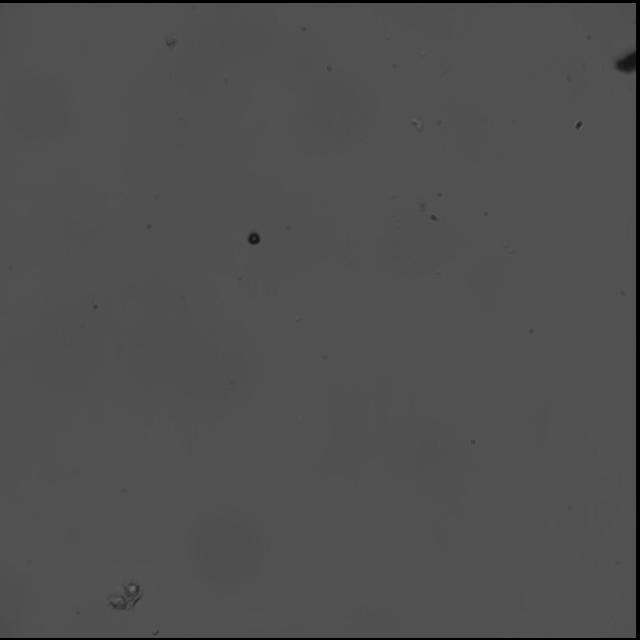microbeads: (247, 230, 263, 248)
